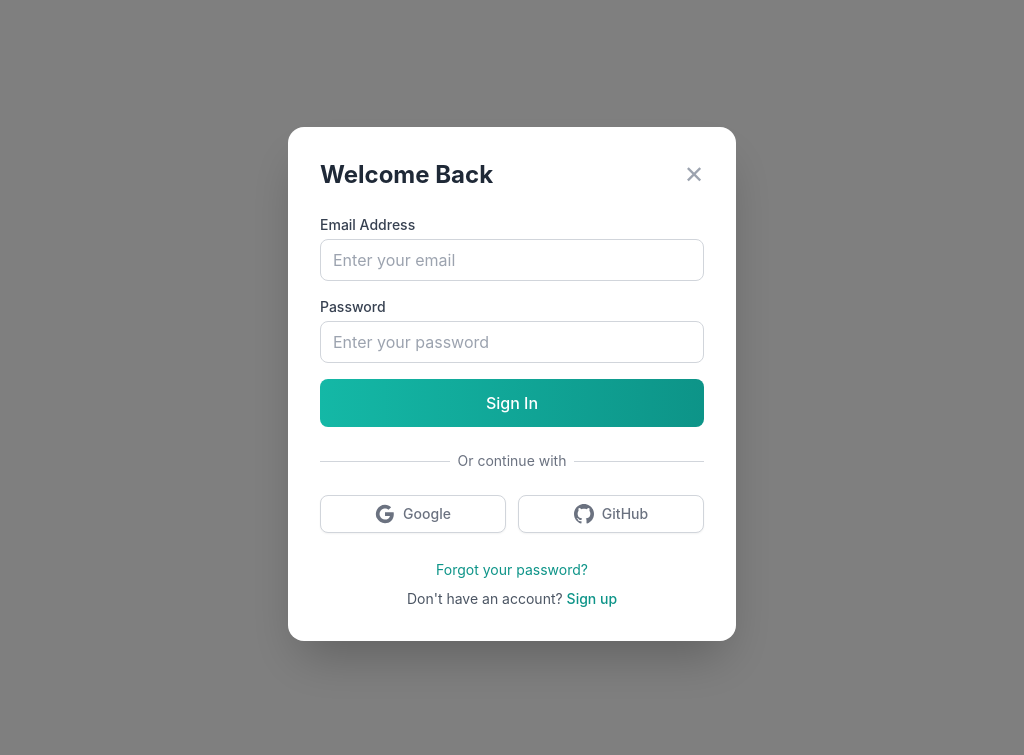
Scenario: AuthModal Component › switches between signin and signup modes
Expected: the heading "Welcome Back" is shown, [320,159,493,191]
# Switch to signup
Click the button "Sign up": [592, 599] box [567,589,617,609]
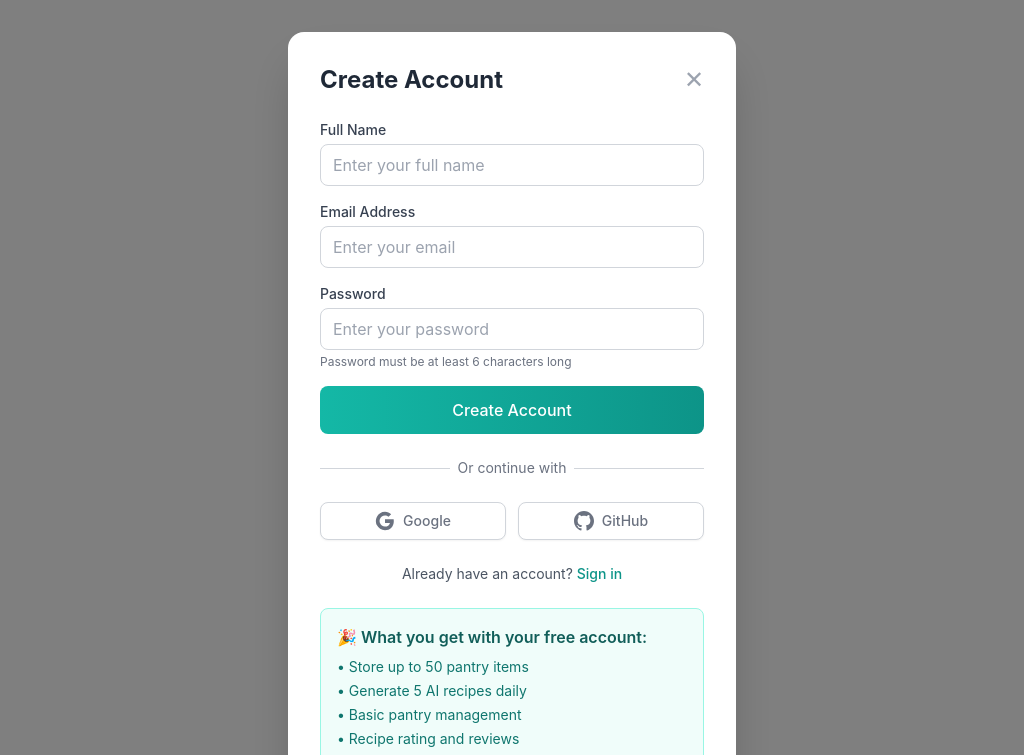
Result: the heading "Create Account" is shown at [320,64,503,96]
# Switch back to signin
Click the button "Sign in": [600, 574] box [577,564,622,584]
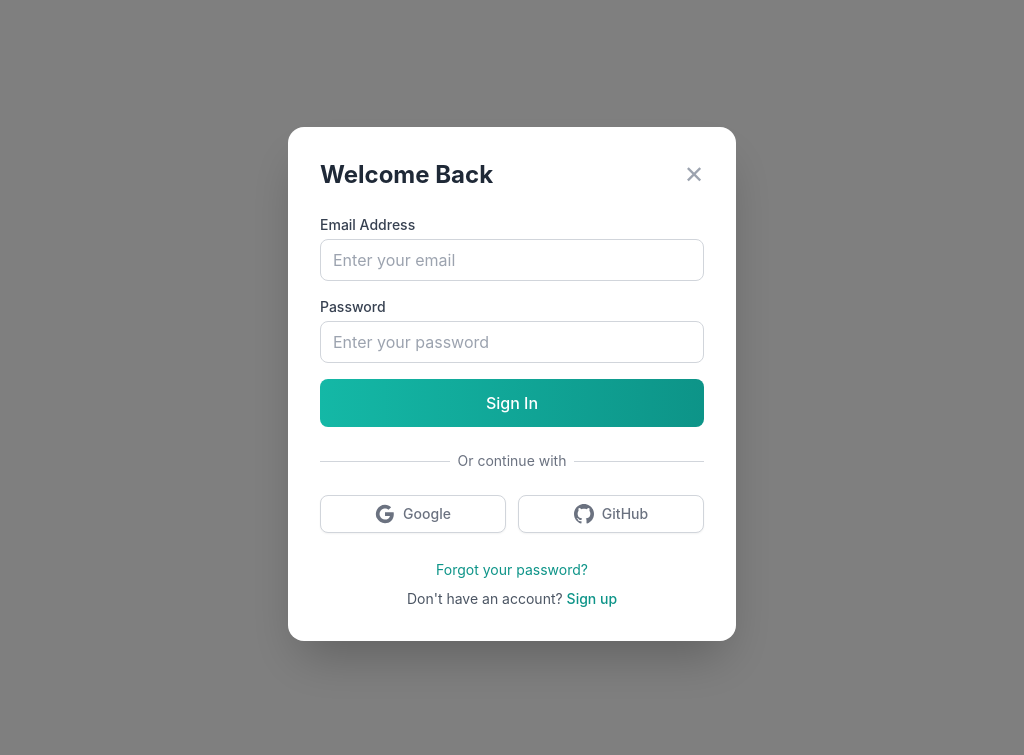
Result: the heading "Welcome Back" is shown at [320,159,493,191]
